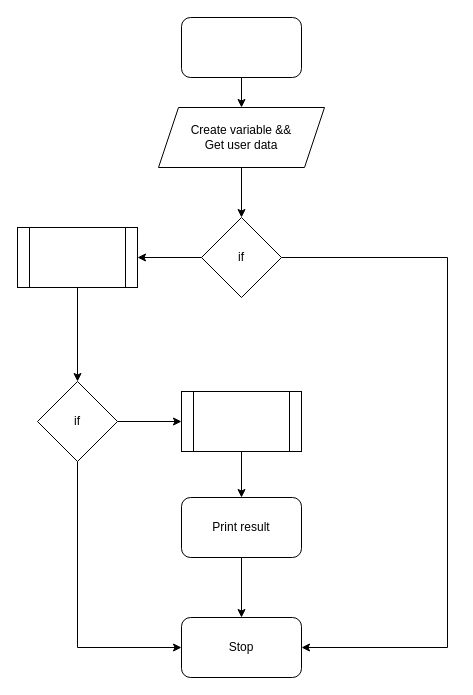
Some shapes in this 473 by 695 pixel diagram are drawn without their labels. Here are the shapes that lost their labels. From the top down, the box of each, then its label:
(180, 16, 302, 78): Start
(16, 226, 138, 288): Create work list
(180, 390, 302, 452): Get result
